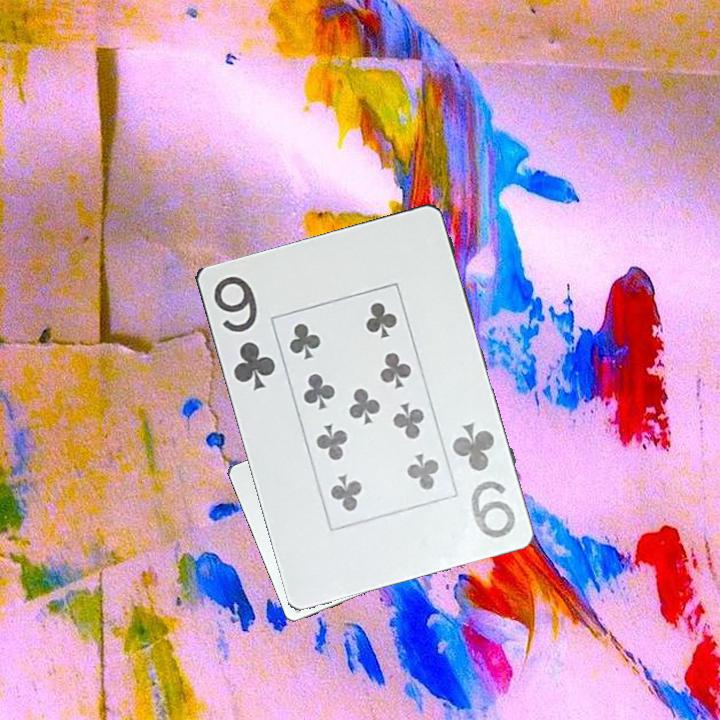9c: (447, 418, 518, 541), (209, 272, 278, 393)
